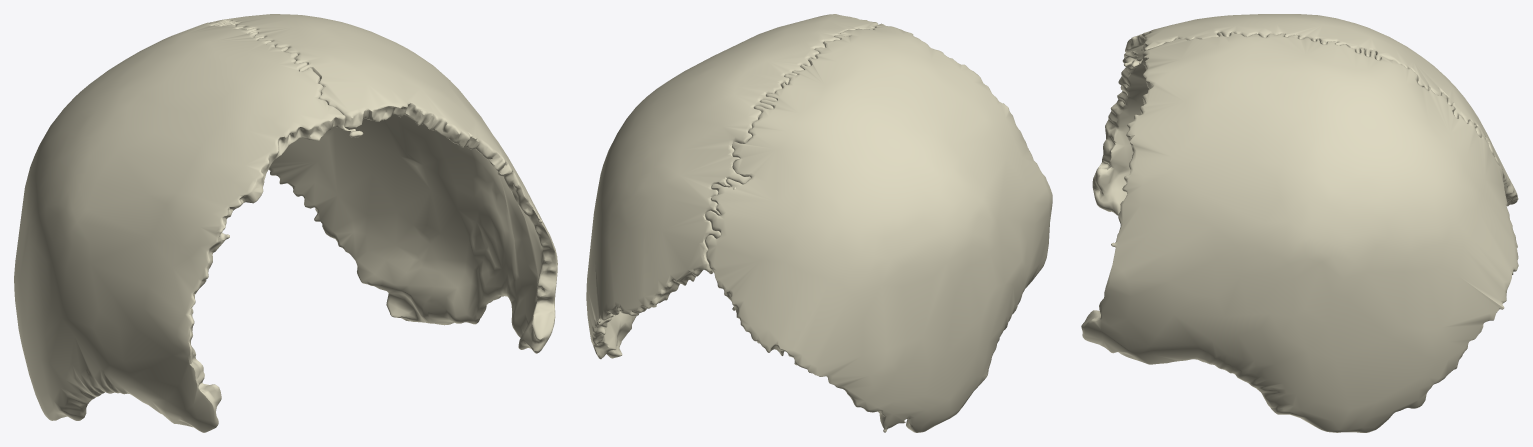
File: parietal.glb
3 renders of one model, left to right at view 1: azimuth 30°, elevation 25°; view 2: azimuth 150°, elevation 25°; view 3: azimuth 270°, elevation 25°, orthographic. The views are drawn at different scales.
Parts seen in each view (by area): view 1: grp1; view 2: grp1; view 3: grp1.
Boxes of the visible parts, x1,y1,x2,y2 form: grp1: (14,14,557,432); grp1: (586,14,1052,432); grp1: (1081,14,1518,432).
Size of the model in its own units: 0.151 by 0.1185 by 0.1466.
